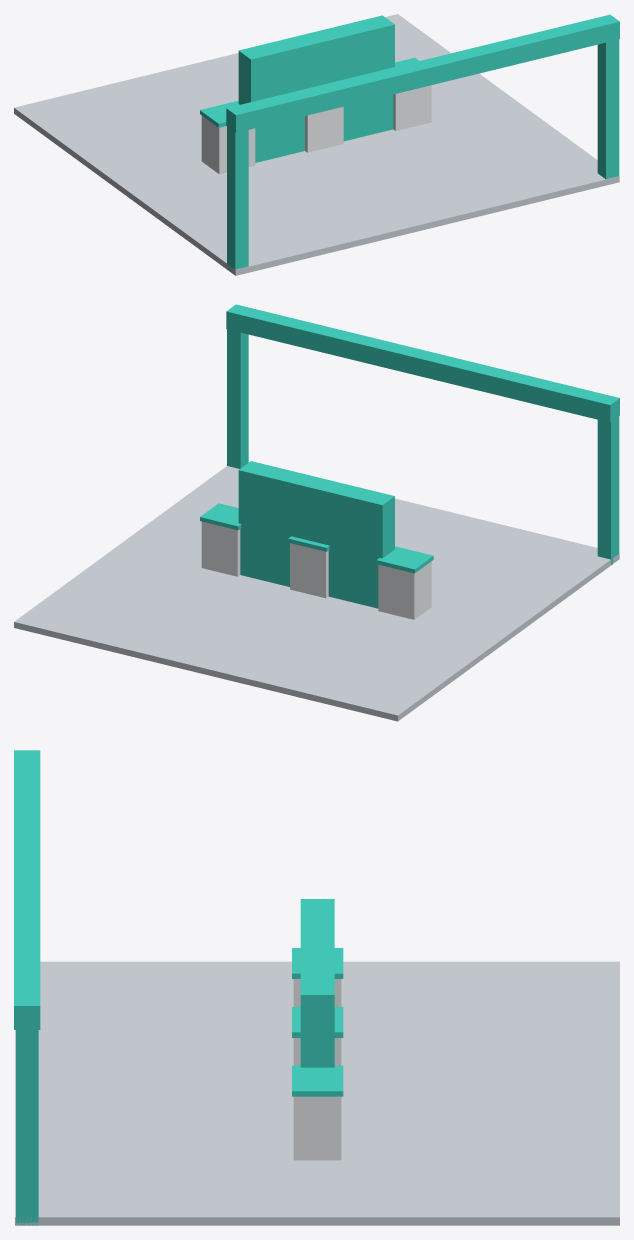
The picture shows the model from 3 angles, top to bottom: view 1: azimuth 30°, elevation 25°; view 2: azimuth 150°, elevation 25°; view 3: azimuth 270°, elevation 25°; orthographic projection. The views are drawn at different scales.
Parts seen in each view (by area): view 1: Exhibition Booth Concept; view 2: Exhibition Booth Concept; view 3: Exhibition Booth Concept.
Part boxes in pixels (bbox=[...]): Exhibition Booth Concept: bbox=[14, 14, 619, 275]; Exhibition Booth Concept: bbox=[14, 304, 619, 721]; Exhibition Booth Concept: bbox=[14, 750, 619, 1225].
Size of the model in its own units: 8 by 3.2 by 8.01.
